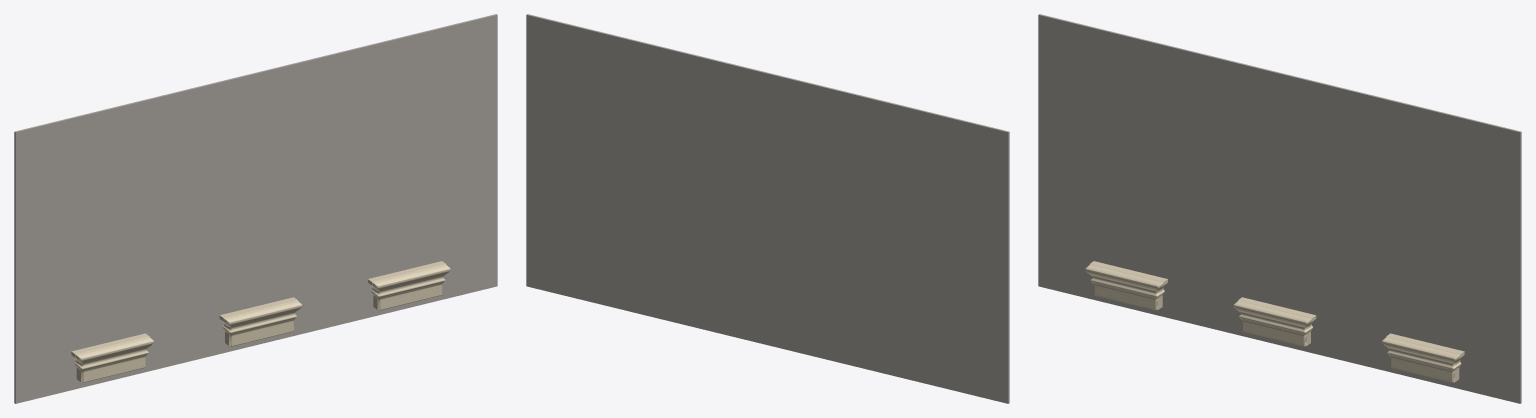
Rendered from terilgan.glb.
The picture shows the model from 3 angles, left to right: view 1: azimuth 30°, elevation 25°; view 2: azimuth 150°, elevation 25°; view 3: azimuth 330°, elevation 25°; orthographic projection.
Parts seen in each view (by area): view 1: Devor, t0, t2, t1; view 2: Devor; view 3: Devor, t2, t0, t1.
Part boxes in pixels (bbox=[...]): Devor: bbox=[14, 14, 497, 403]; t0: bbox=[71, 333, 153, 382]; t2: bbox=[368, 261, 450, 310]; t1: bbox=[219, 297, 302, 346]; Devor: bbox=[526, 14, 1009, 403]; Devor: bbox=[1038, 14, 1521, 403]; t2: bbox=[1382, 333, 1464, 382]; t0: bbox=[1085, 261, 1167, 310]; t1: bbox=[1233, 297, 1316, 346].
Bounding box in the file's own units: 2.6 × 1.4 × 0.097.
